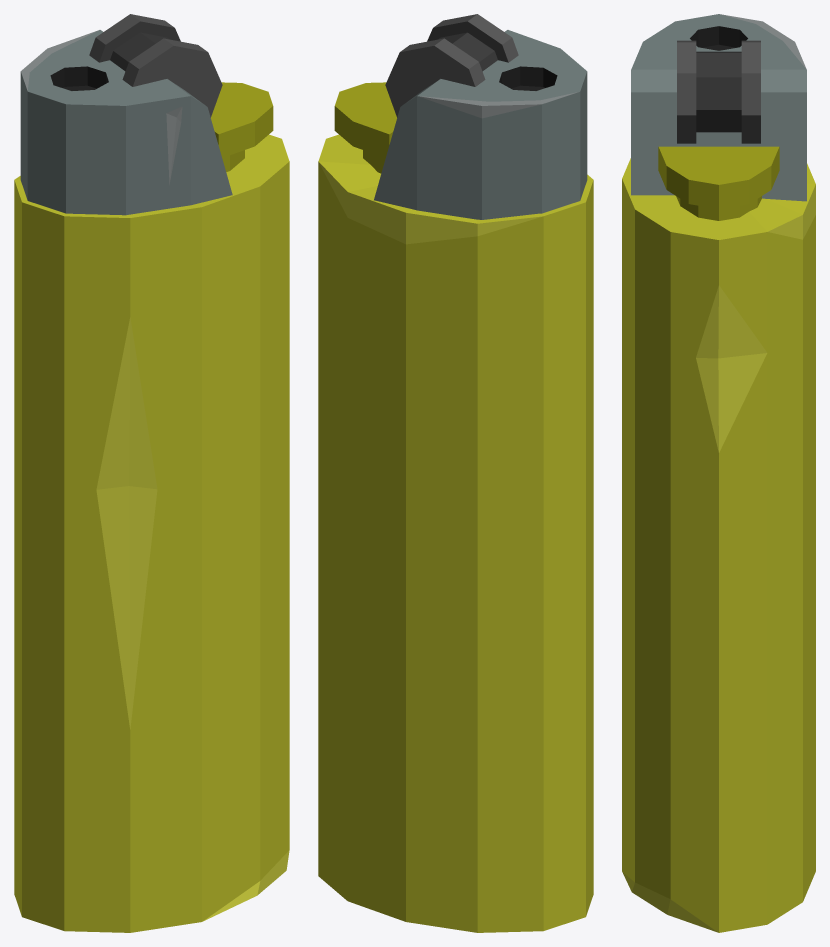
File: mesh_lighter_yellow.fbx
The picture shows the model from 3 angles, left to right: view 1: azimuth 30°, elevation 25°; view 2: azimuth 150°, elevation 25°; view 3: azimuth 270°, elevation 25°; orthographic projection. The views are drawn at different scales.
Parts seen in each view (by area): view 1: mesh_lighter_yellow; view 2: mesh_lighter_yellow; view 3: mesh_lighter_yellow.
Part boxes in pixels (x1=…): mesh_lighter_yellow: x1=14, y1=14, x2=289, y2=932; mesh_lighter_yellow: x1=318, y1=14, x2=593, y2=932; mesh_lighter_yellow: x1=622, y1=14, x2=815, y2=932.
Bounding box in the file's own units: 0.0554 × 0.1741 × 0.0369.
